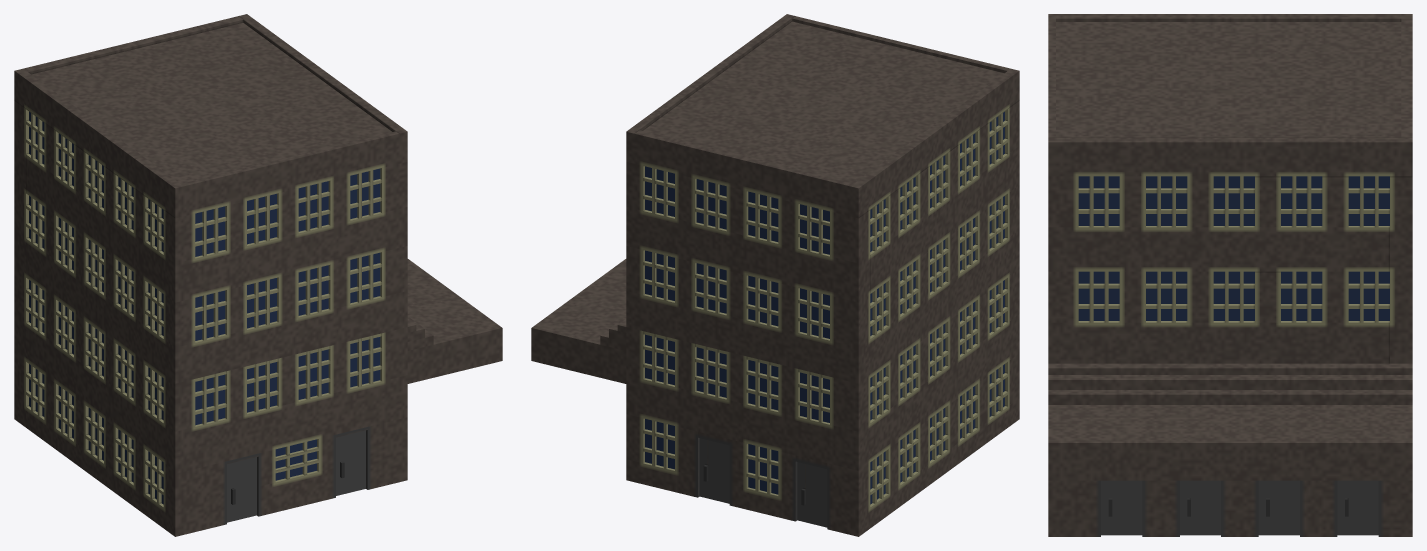
Rendered from big_budynek_g1.dae.
The picture shows the model from 3 angles, left to right: view 1: azimuth 30°, elevation 25°; view 2: azimuth 150°, elevation 25°; view 3: azimuth 270°, elevation 25°; orthographic projection. The views are drawn at different scales.
Parts seen in each view (by area): view 1: Content; view 2: Content; view 3: Content.
Part boxes in pixels (left/top/right/bottom): Content: left=14, top=14, right=502, bottom=536; Content: left=531, top=14, right=1019, bottom=536; Content: left=1048, top=14, right=1412, bottom=536.
Size of the model in its own units: 114 by 116 by 97.
1 material, 1 textured.
